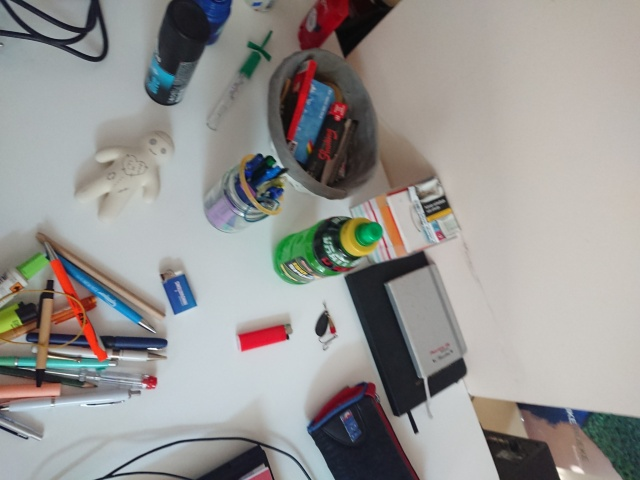Vindi Iso Sport Lemon-Grapefruit 500mL: (271, 214, 385, 287)
